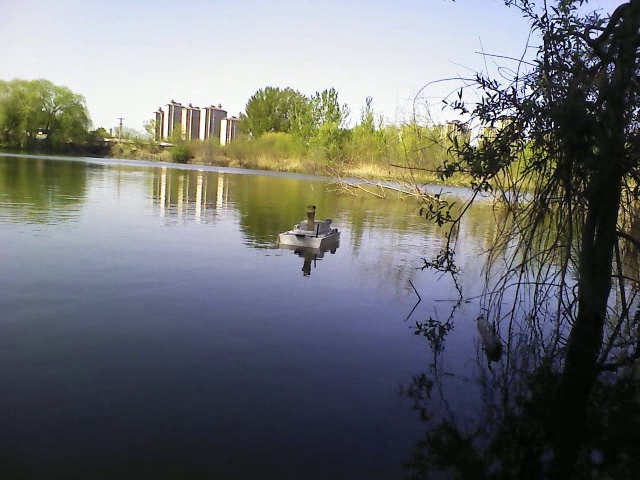boat: (277, 203, 341, 253)
